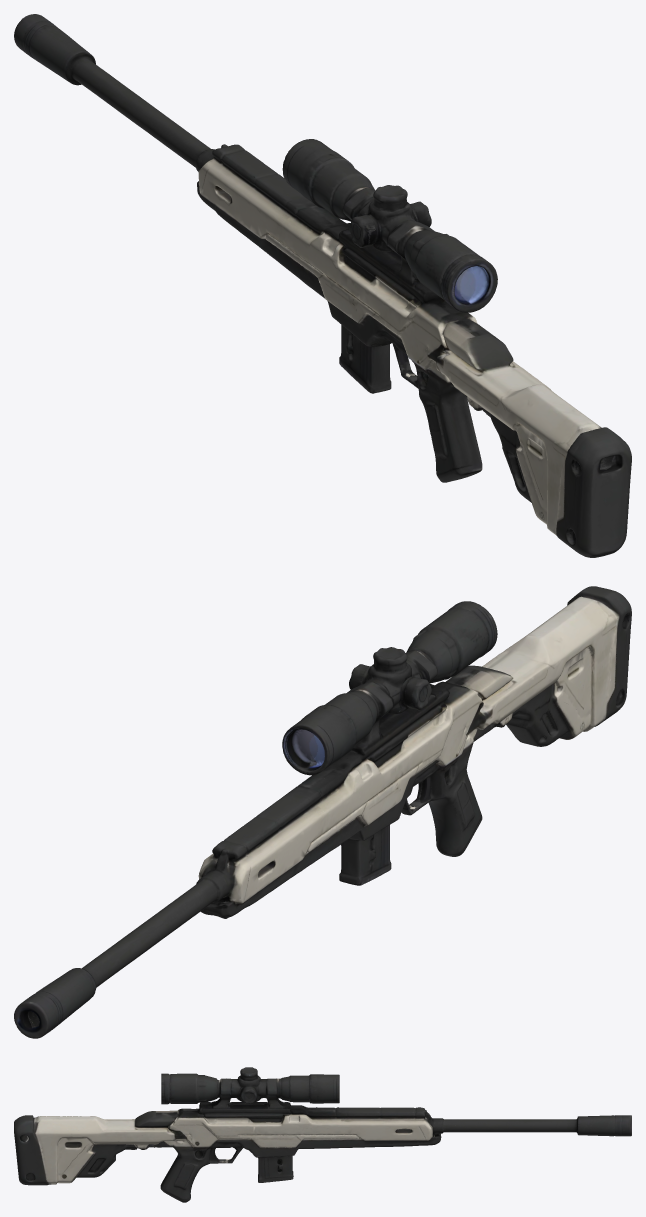
File: axmc.glb
The picture shows the model from 3 angles, top to bottom: view 1: azimuth 30°, elevation 25°; view 2: azimuth 150°, elevation 25°; view 3: azimuth 270°, elevation 25°; orthographic projection. The views are drawn at different scales.
Visible parts, largest first — view 1: AXMC, axmc_mag_Mesh_0.002; view 2: AXMC, axmc_mag_Mesh_0.002; view 3: AXMC, axmc_mag_Mesh_0.002.
Boxes of the visible parts, x1,y1,x2,y2 form: AXMC: (14,14,631,557); axmc_mag_Mesh_0.002: (339,325,391,393); AXMC: (14,586,631,1038); axmc_mag_Mesh_0.002: (339,825,391,885); AXMC: (14,1067,631,1202); axmc_mag_Mesh_0.002: (258,1156,293,1182).
Size of the model in its own units: 0.0862 by 0.2925 by 1.25.
Materials: 1 (1 with a texture image).
